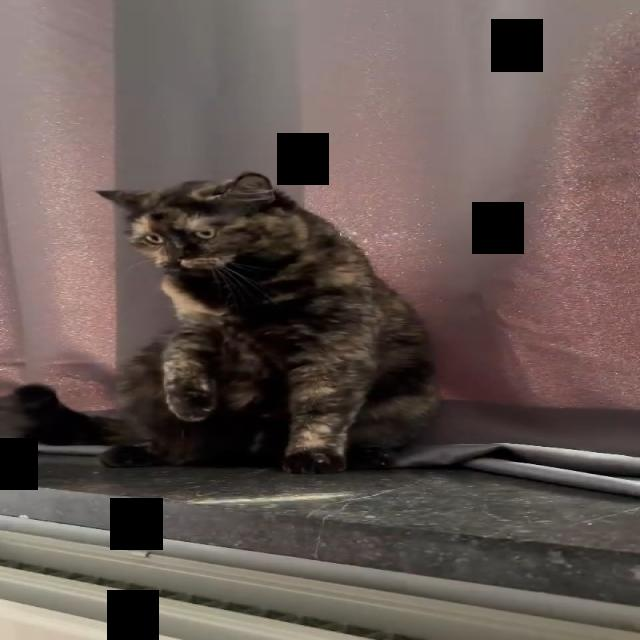authorized: (92, 170, 441, 474)
